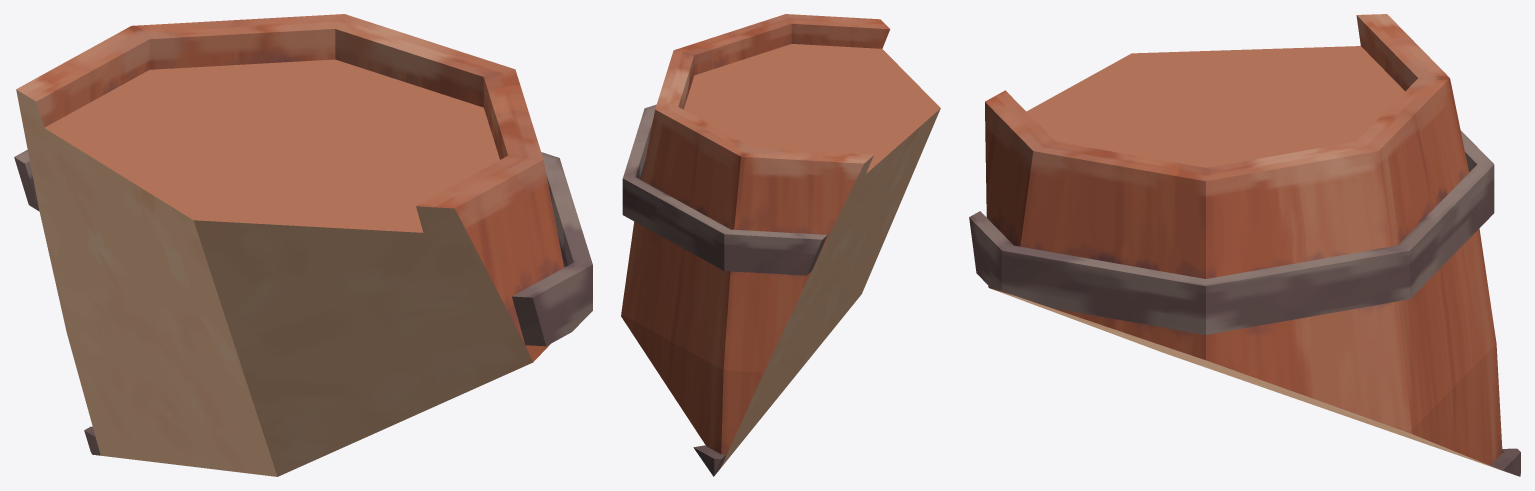
File: barrel_s03.fbx
3 renders of one model, left to right at view 1: azimuth 30°, elevation 25°; view 2: azimuth 150°, elevation 25°; view 3: azimuth 270°, elevation 25°, orthographic. The views are drawn at different scales.
Parts seen in each view (by area): view 1: barrel_s03; view 2: barrel_s03; view 3: barrel_s03.
Part boxes in pixels (left/top/right/bottom): barrel_s03: left=14, top=14, right=592, bottom=476; barrel_s03: left=621, top=14, right=940, bottom=476; barrel_s03: left=969, top=14, right=1520, bottom=476.
Size of the model in its own units: 1.8 by 1.8 by 2.26.
